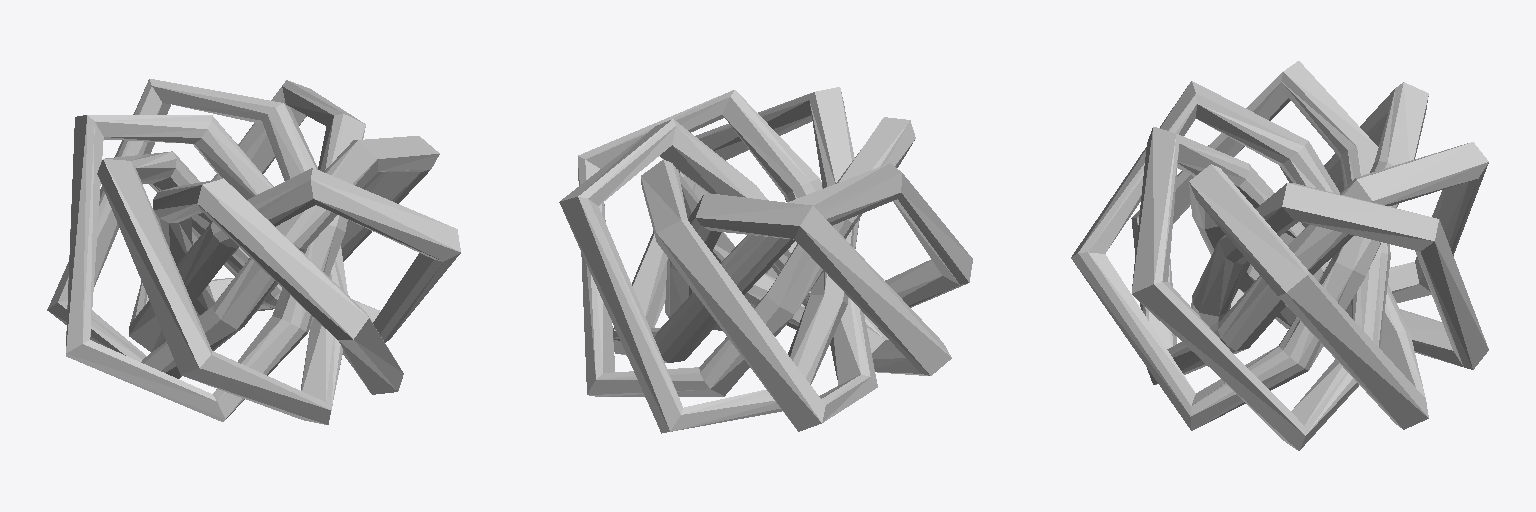
Rendered from enemy's soul.obj.
3 renders of one model, left to right at view 1: azimuth 30°, elevation 25°; view 2: azimuth 150°, elevation 25°; view 3: azimuth 270°, elevation 25°, orthographic.
Parts seen in each view (by area): view 1: Torus_Knot001; view 2: Torus_Knot001; view 3: Torus_Knot001.
Boxes of the visible parts, x1,y1,x2,y2 form: Torus_Knot001: [47, 79, 460, 424]; Torus_Knot001: [559, 87, 972, 433]; Torus_Knot001: [1071, 61, 1488, 450].
Size of the model in its own units: 87.54 by 57.01 by 84.77.